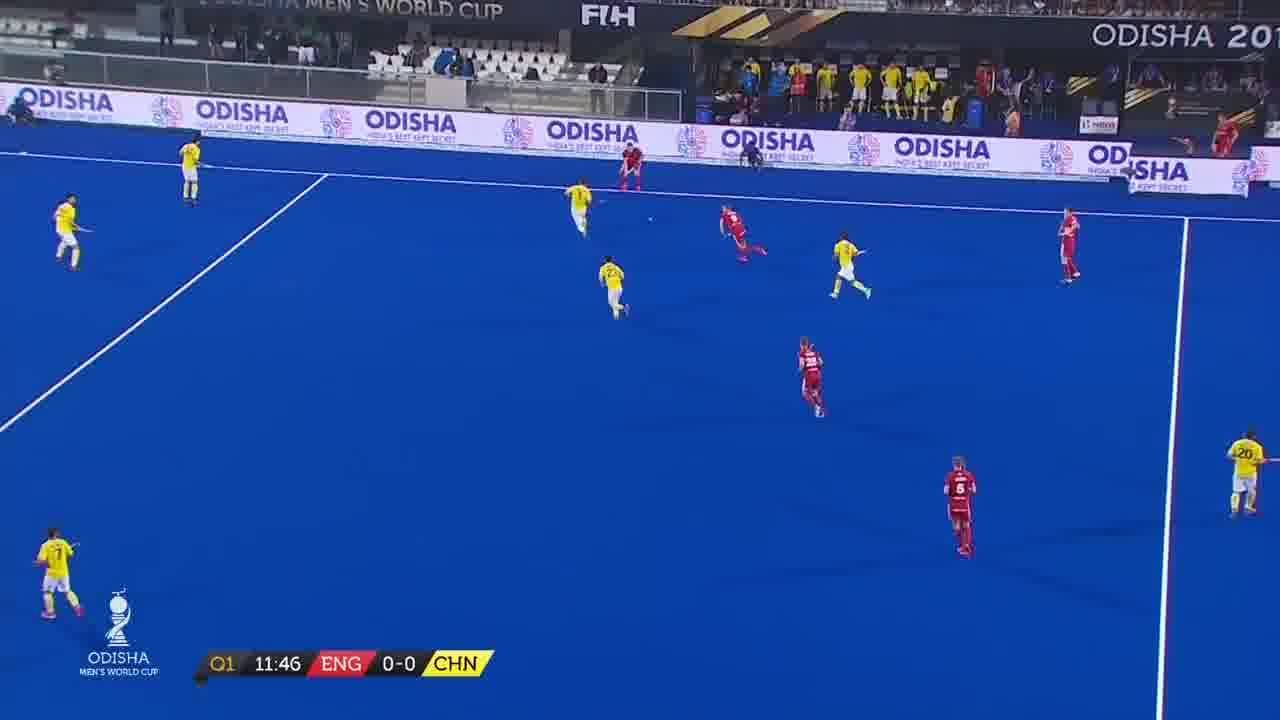ball: (646, 212, 658, 224)
